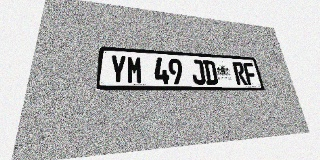4: (154, 57, 170, 84)
9: (168, 58, 184, 84)
D: (203, 60, 219, 85)
F: (242, 62, 258, 85)
J: (190, 59, 206, 85)
M: (127, 56, 143, 84)
R: (232, 62, 248, 85)
Y: (109, 55, 126, 84)
